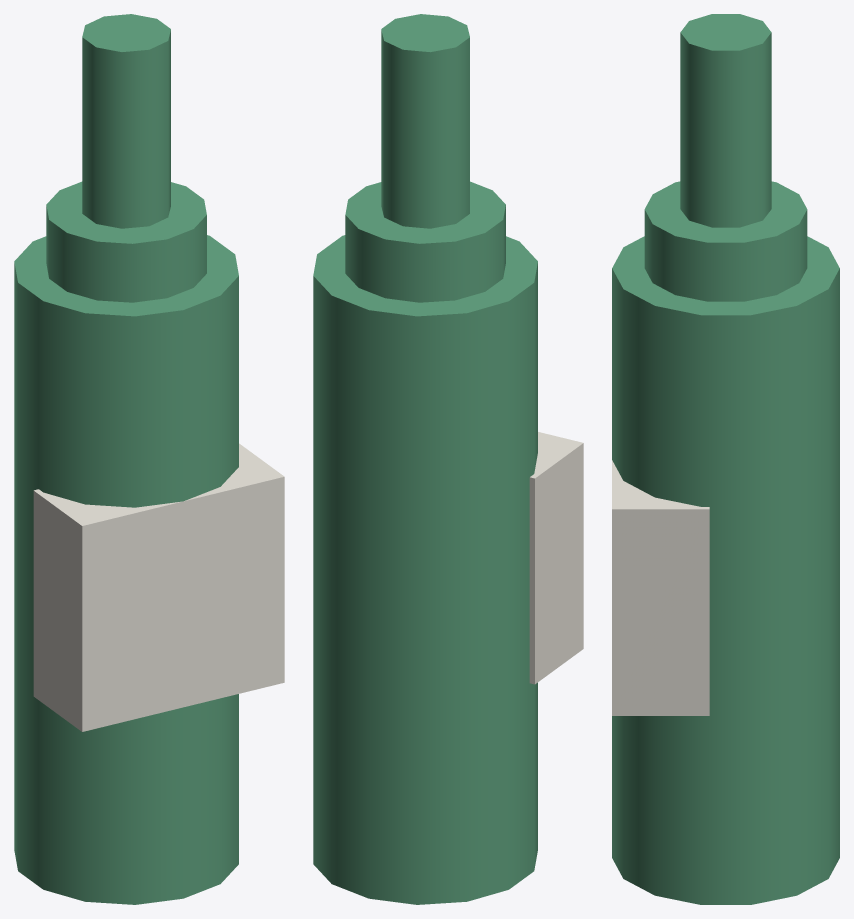
Rendered from bb_set_bottle.fbx.
The picture shows the model from 3 angles, left to right: view 1: azimuth 30°, elevation 25°; view 2: azimuth 150°, elevation 25°; view 3: azimuth 270°, elevation 25°; orthographic projection.
Visible parts, largest first — view 1: bb_set_bottle; view 2: bb_set_bottle; view 3: bb_set_bottle.
Part boxes in pixels (bbox=[...]): bb_set_bottle: bbox=[14, 14, 284, 904]; bb_set_bottle: bbox=[313, 14, 583, 904]; bb_set_bottle: bbox=[612, 14, 839, 904].
Bounding box in the file's own units: 0.072 × 0.28 × 0.07.
